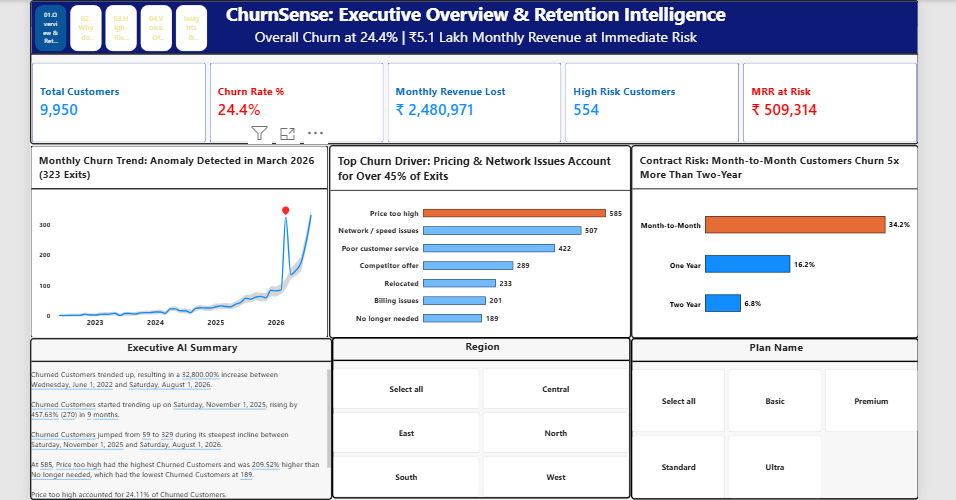

The dashboard page shown, as its layout file describes it:
{"tool":"powerbi","page":{"name":"01.Overview & Retention","canvas":[1920,1080],"ordinal":0},"visuals":[{"type":"cardVisual","title":"ChurnSense: Executive Overview & Retention Intelligence","fields":{"Data":["_Measure.Total Customers","_Measure.Churn Rate %","_Measure.Monthly Revenue Lost","_Measure.High Risk Customers","_Measure.MRR at Risk"]},"box":[0,0,1920,312.4],"z":0},{"type":"textbox","box":[10,495,600,75],"z":1000},{"type":"textbox","box":[10,672.5,600,150],"z":2000},{"type":"barChart","title":"Top Churn Driver: Pricing & Network Issues Account for Over 45% of Exits","fields":{"Category":["Customers.ChurnReason"],"Y":["_Measure.Churned Customers"]},"box":[645,312.4,652.6,418.3],"z":3000},{"type":"lineChart","title":"Monthly Churn Trend: Anomaly Detected in March 2026 (323 Exits)","fields":{"Category":["Calendar.MonthStart"],"Y":["_Measure.Churned Customers"]},"box":[0,312.4,645,418.3],"z":4000},{"type":"clusteredBarChart","title":"Contract Risk: Month-to-Month Customers Churn 5x More Than Two-Year","fields":{"Category":["Customers.ContractType"],"Y":["_Measure.Churn Rate %"]},"box":[1297.6,312.4,622.4,418.3],"z":5000},{"type":"textbox","title":"Executive AI Summary","box":[0,730.7,652.6,350.2],"z":6000},{"type":"advancedSlicerVisual","title":"Region","fields":{"Values":["Customers.Region"]},"box":[652.6,728.2,645,349],"z":7000},{"type":"advancedSlicerVisual","title":"Plan Name","fields":{"Values":["Customers.PlanName"]},"box":[1298,731,622,349],"z":8000},{"type":"pageNavigator","box":[9.8,9.8,376.1,100.8],"z":8001}]}

Visuals, with their boxes on the page's 1920x1080 design canvas (x1, y1, x2, y2). These are canvas units, not pixel positions in the 956x500 screenshot, which may show the page scaled, cropped or inside an application window:
"ChurnSense: Executive Overview & Retention Intelligence" cardVisual: bbox(0, 0, 1920, 312)
textbox: bbox(10, 495, 610, 570)
textbox: bbox(10, 672, 610, 822)
"Top Churn Driver: Pricing & Network Issues Account for Over 45% of Exits" barChart: bbox(645, 312, 1298, 731)
"Monthly Churn Trend: Anomaly Detected in March 2026 (323 Exits)" lineChart: bbox(0, 312, 645, 731)
"Contract Risk: Month-to-Month Customers Churn 5x More Than Two-Year" clusteredBarChart: bbox(1298, 312, 1920, 731)
"Executive AI Summary" textbox: bbox(0, 731, 653, 1081)
"Region" advancedSlicerVisual: bbox(653, 728, 1298, 1077)
"Plan Name" advancedSlicerVisual: bbox(1298, 731, 1920, 1080)
pageNavigator: bbox(10, 10, 386, 111)
